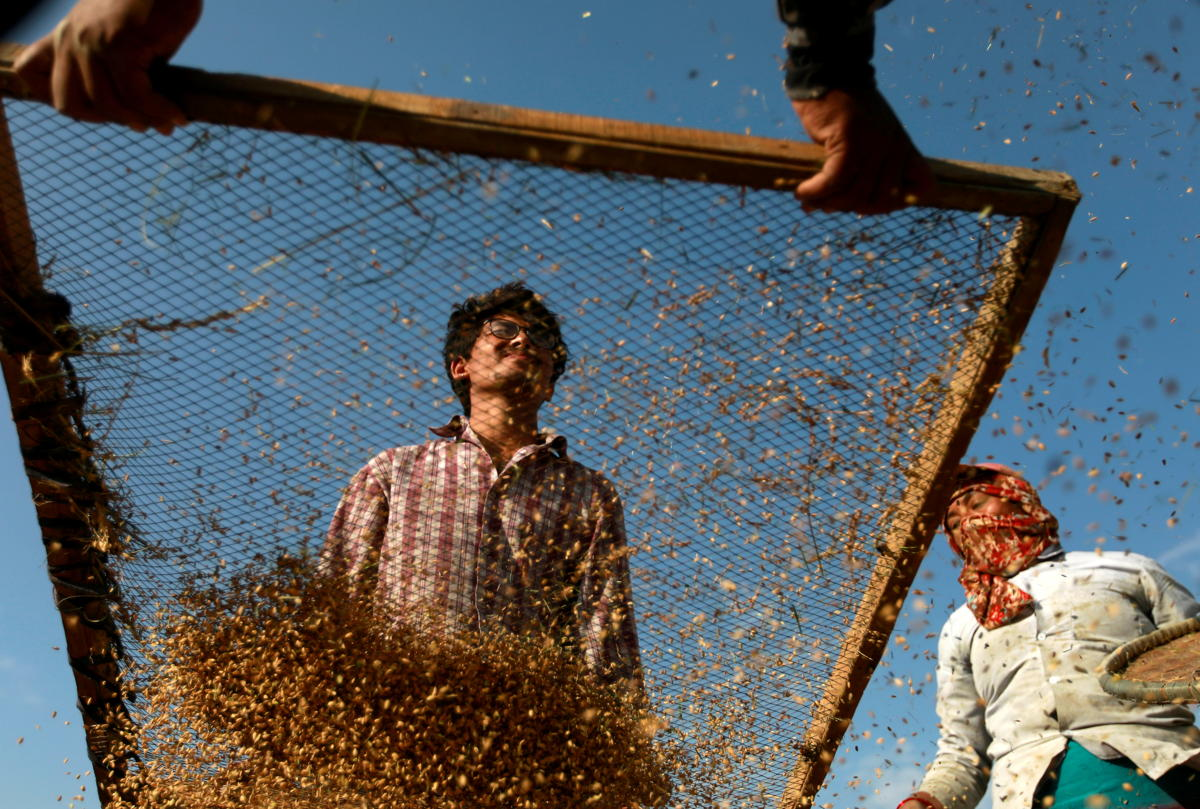human: (306, 278, 670, 767), (877, 432, 1200, 809)
